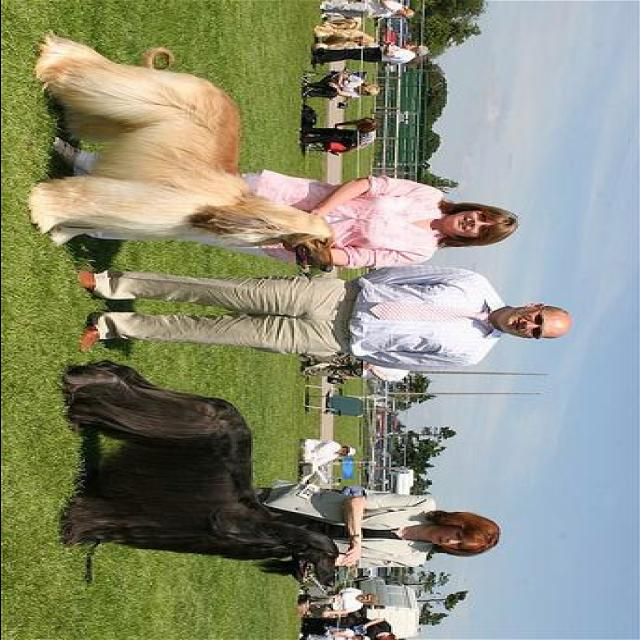afghan_hound: (24, 32, 338, 279), (58, 358, 342, 590)
